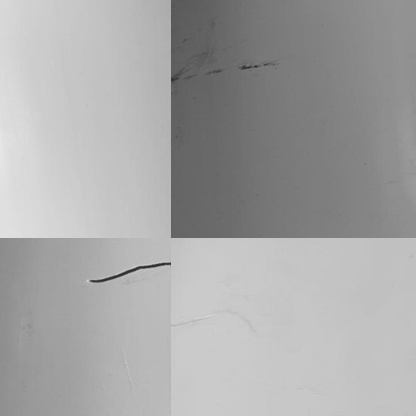fengxi: (88, 261, 169, 283)
sunshang: (170, 312, 219, 333)
